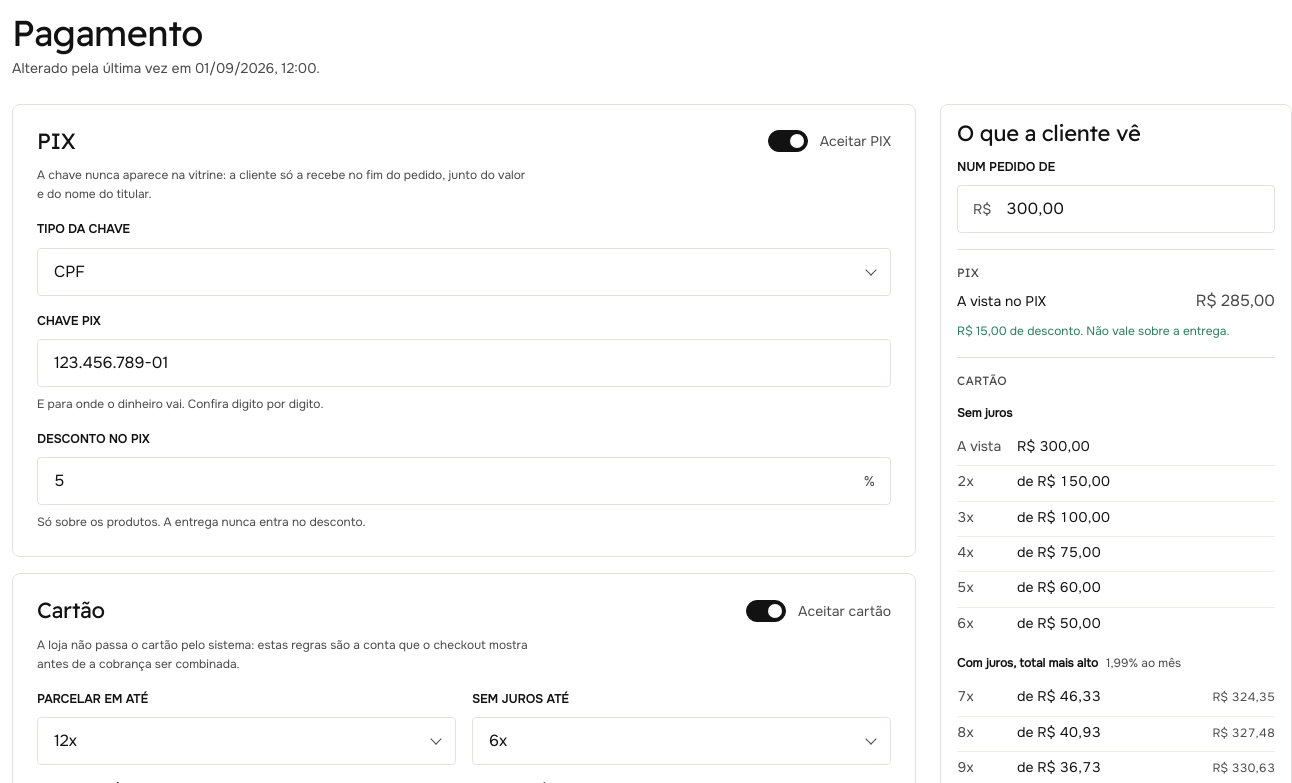
Test: num pedido pequeno, a parcela mínima corta a lista e diz que cortou
This screenshot has width=1292, height=783.
Expected: the field labelled "Chave PIX" is shown, x1=37 y1=339 x2=891 y2=387
Type "90,00" into the field labelled "Num pedido de" at point(1116, 209), box x1=957 y1=185 x2=1275 y2=233
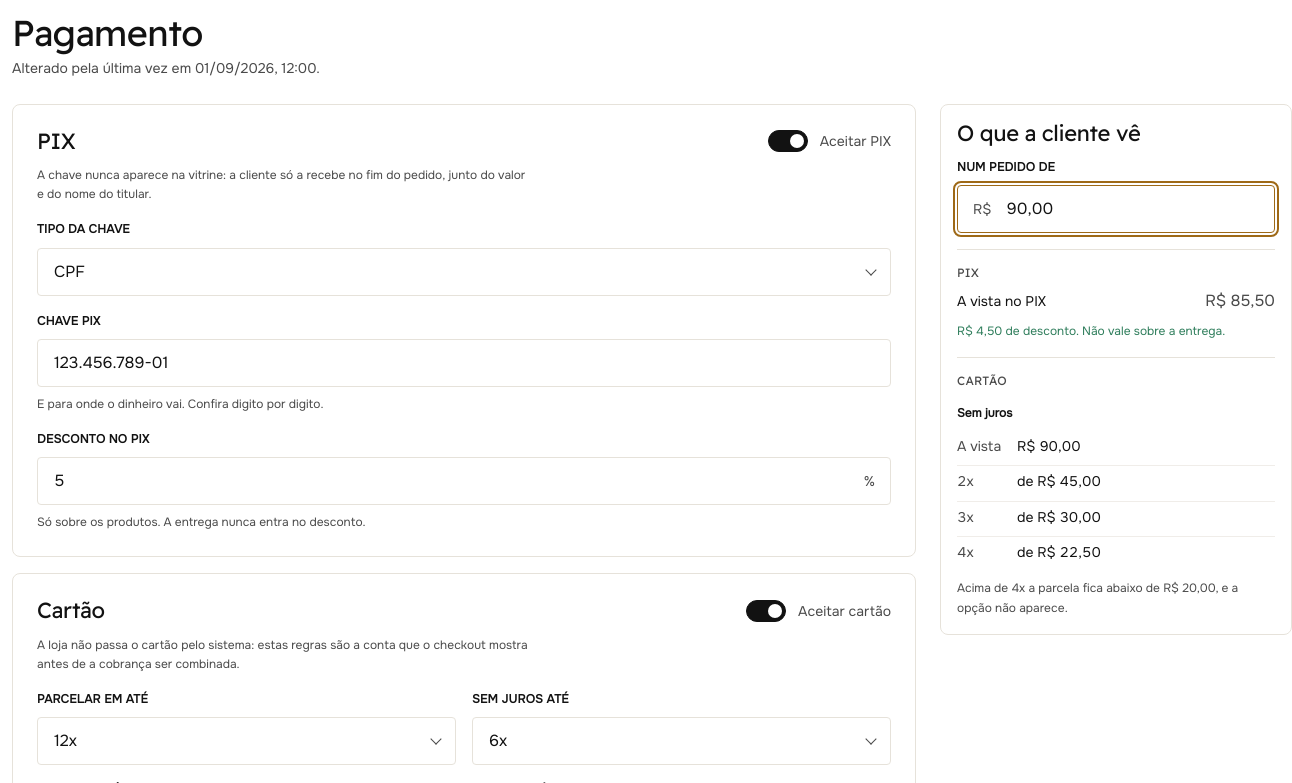
Now the text "Acima de 4x a parcela fica abaixo de" is shown, box x1=957 y1=575 x2=1275 y2=618
